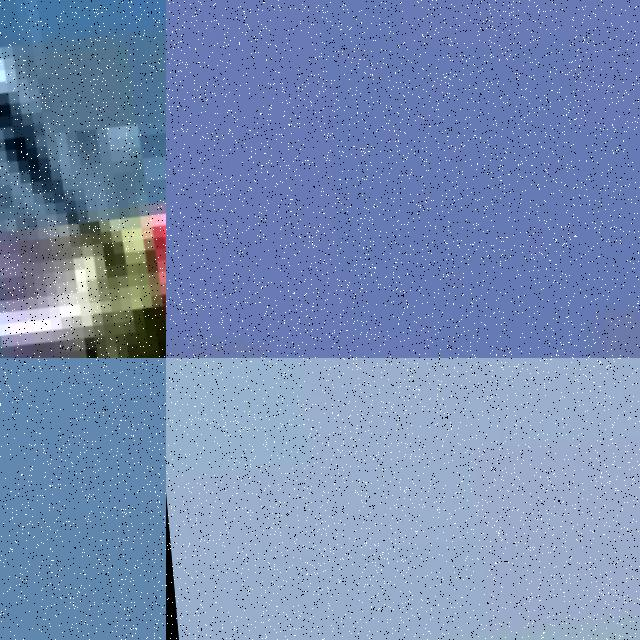drone: (0, 0, 166, 358)
